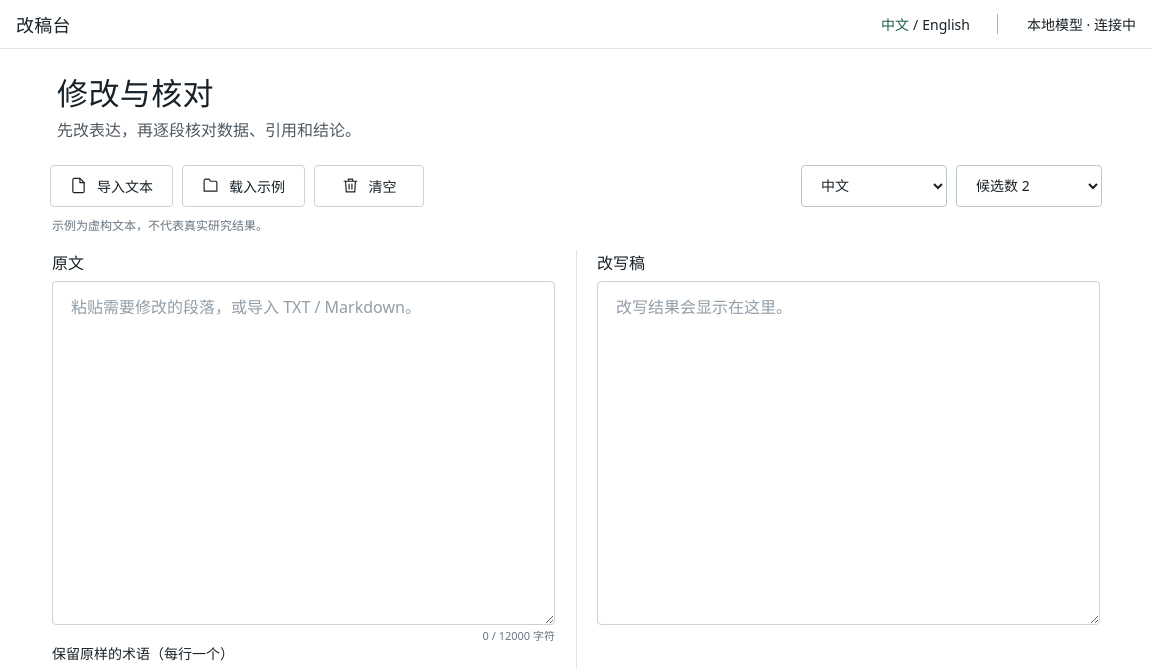
Test: labels warning-only retained candidates as unused rather than source damage
Type "试验重复5次。" into the text box labelled "原文" at (304, 453), box [52,281,555,625]
(page scrolled)
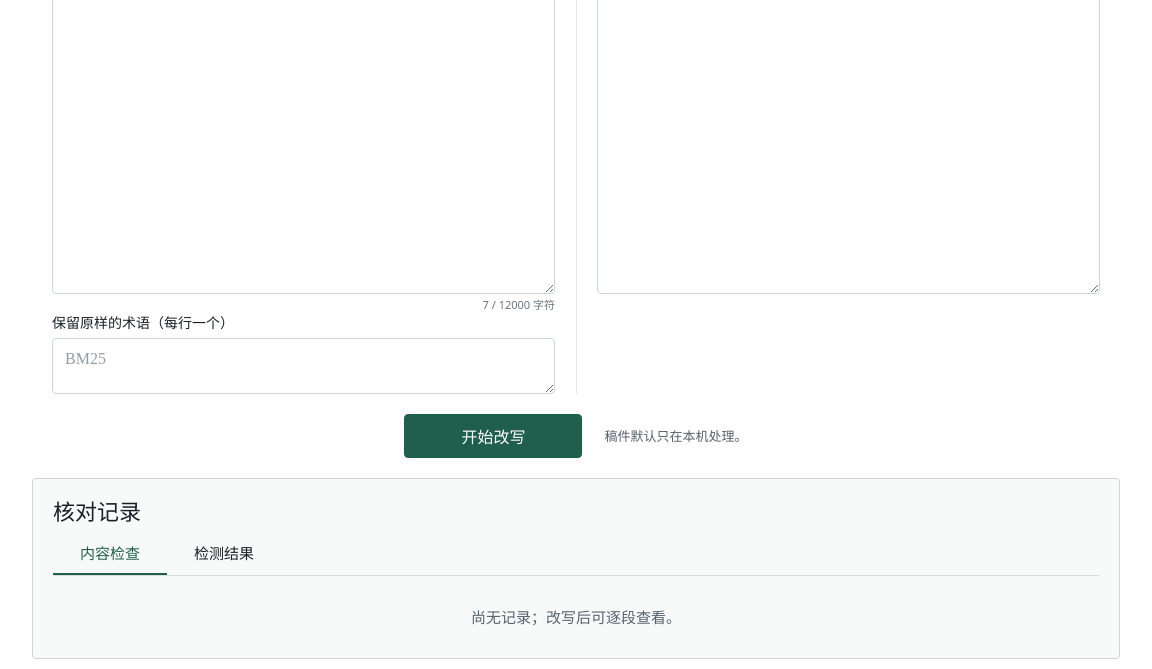
Click the button "开始改写" at (494, 436), box [404,414,582,458]
(page scrolled)
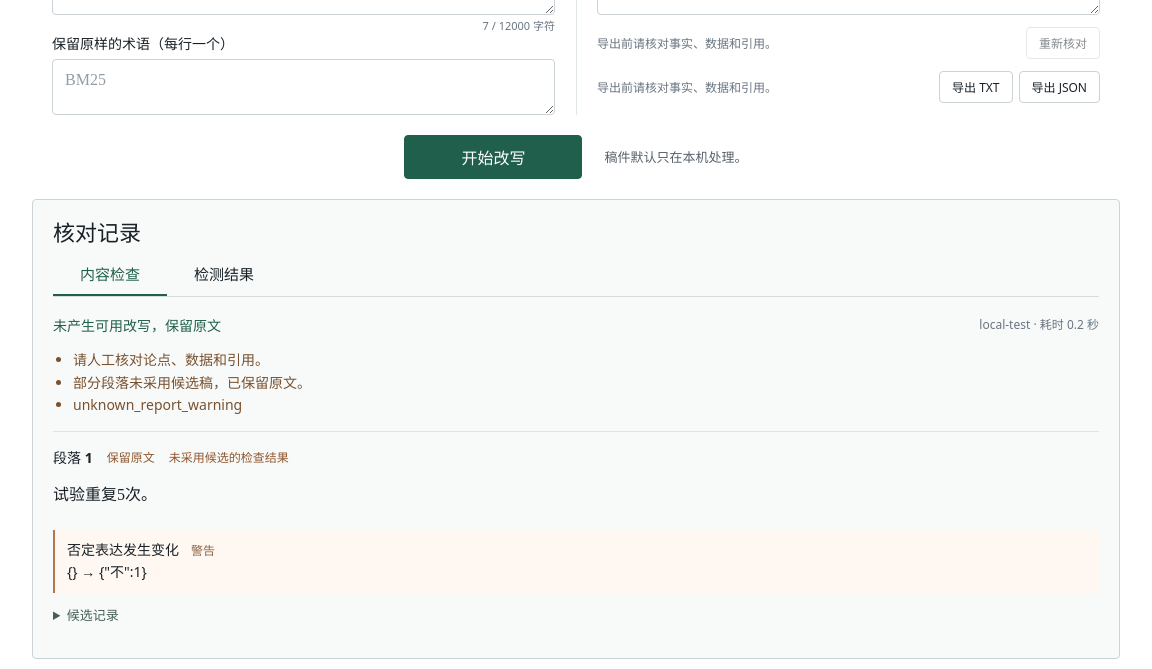
Now the text "未采用候选的检查结果" is shown, box [169,448,289,467]
